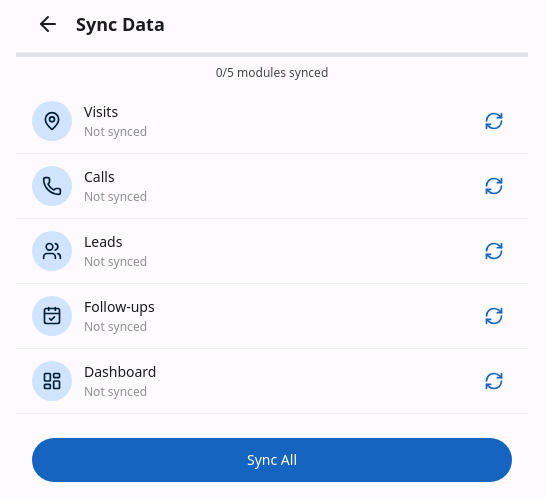
Test: SyncPage › resolves sync status after 2 seconds
Click the button without text in the row of "Visits": click(494, 121) left=476, top=103, right=512, bottom=139
Wait 2000 ms
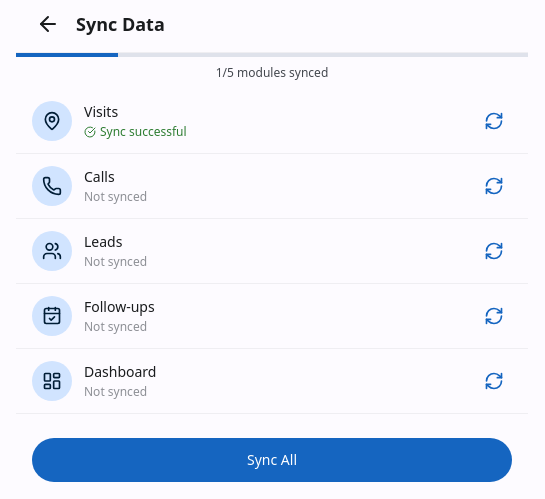
Expected: the text "Sync successful" is shown, left=100, top=124, right=187, bottom=140
